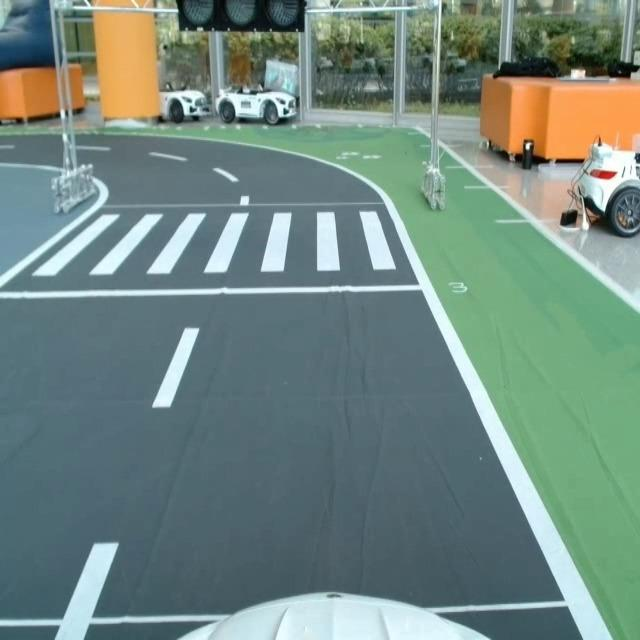traffic-light: (175, 0, 307, 38)
